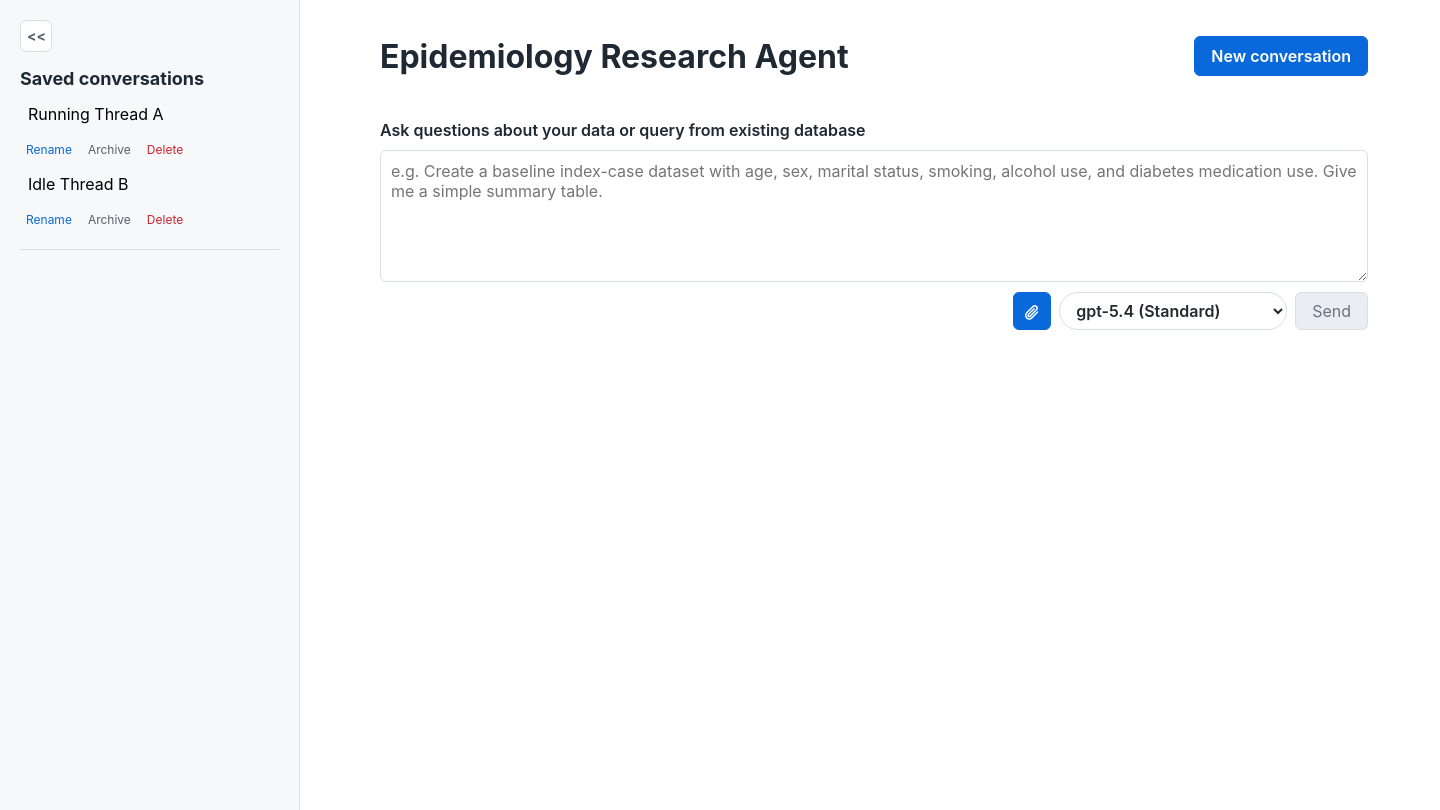
Test: App › ignores a cancellation response after switching conversations
This screenshot has width=1440, height=810.
Click the button "Running Thread A".
click(96, 114)  # box [20,97,172,131]
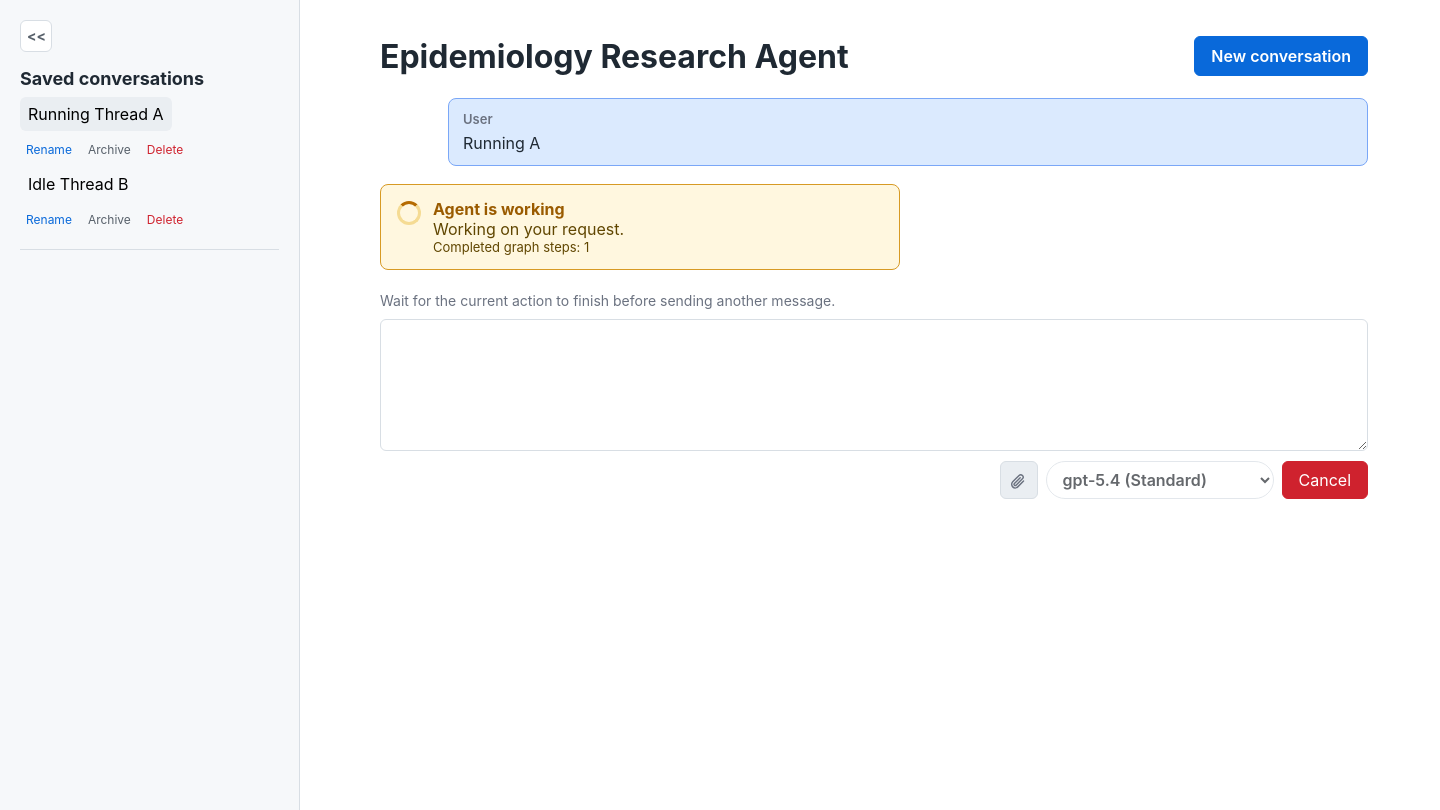
Click the button with aria-label "Cancel run".
click(1325, 480)  # box [1282,461,1368,499]
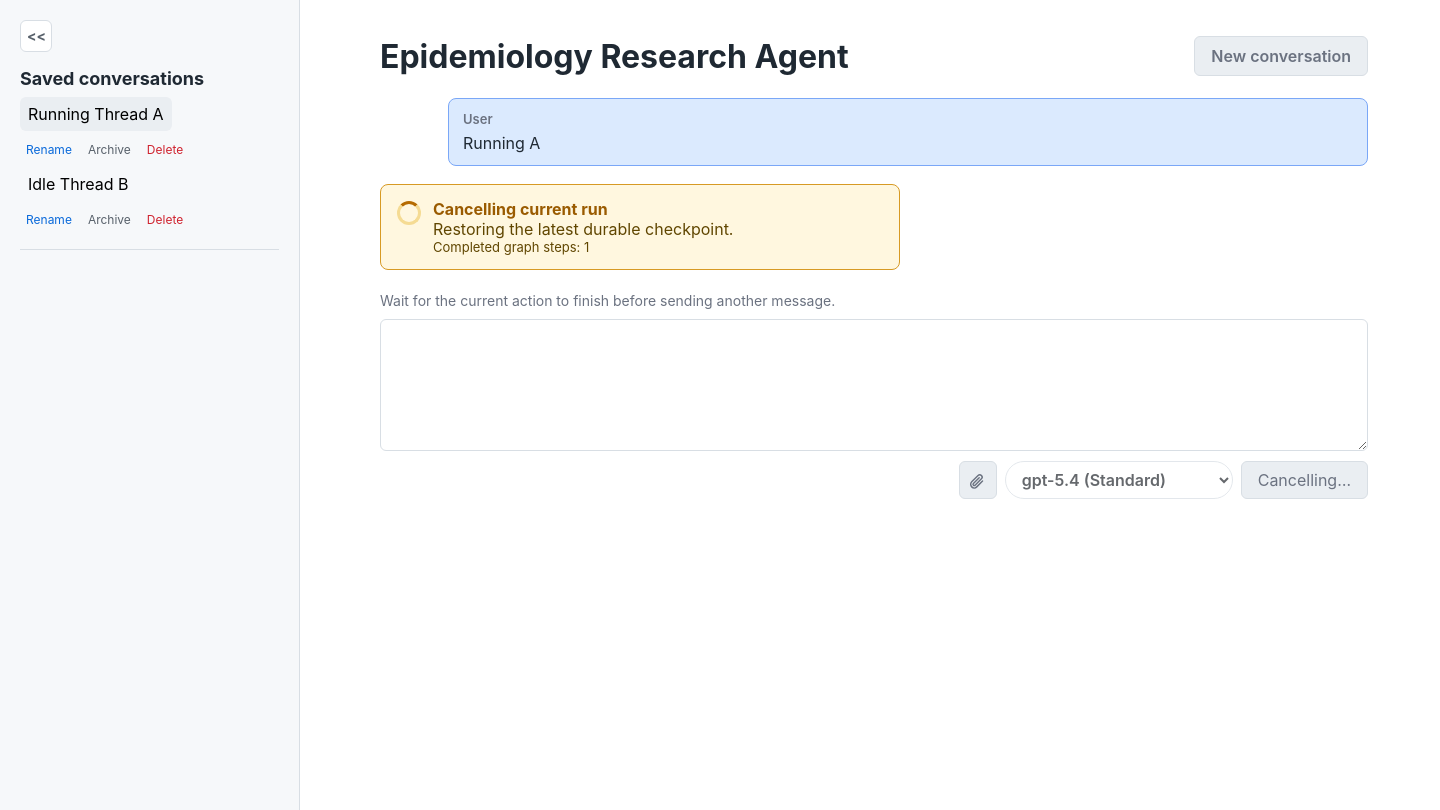
Click the button "Idle Thread B".
click(78, 184)  # box [20,167,137,201]
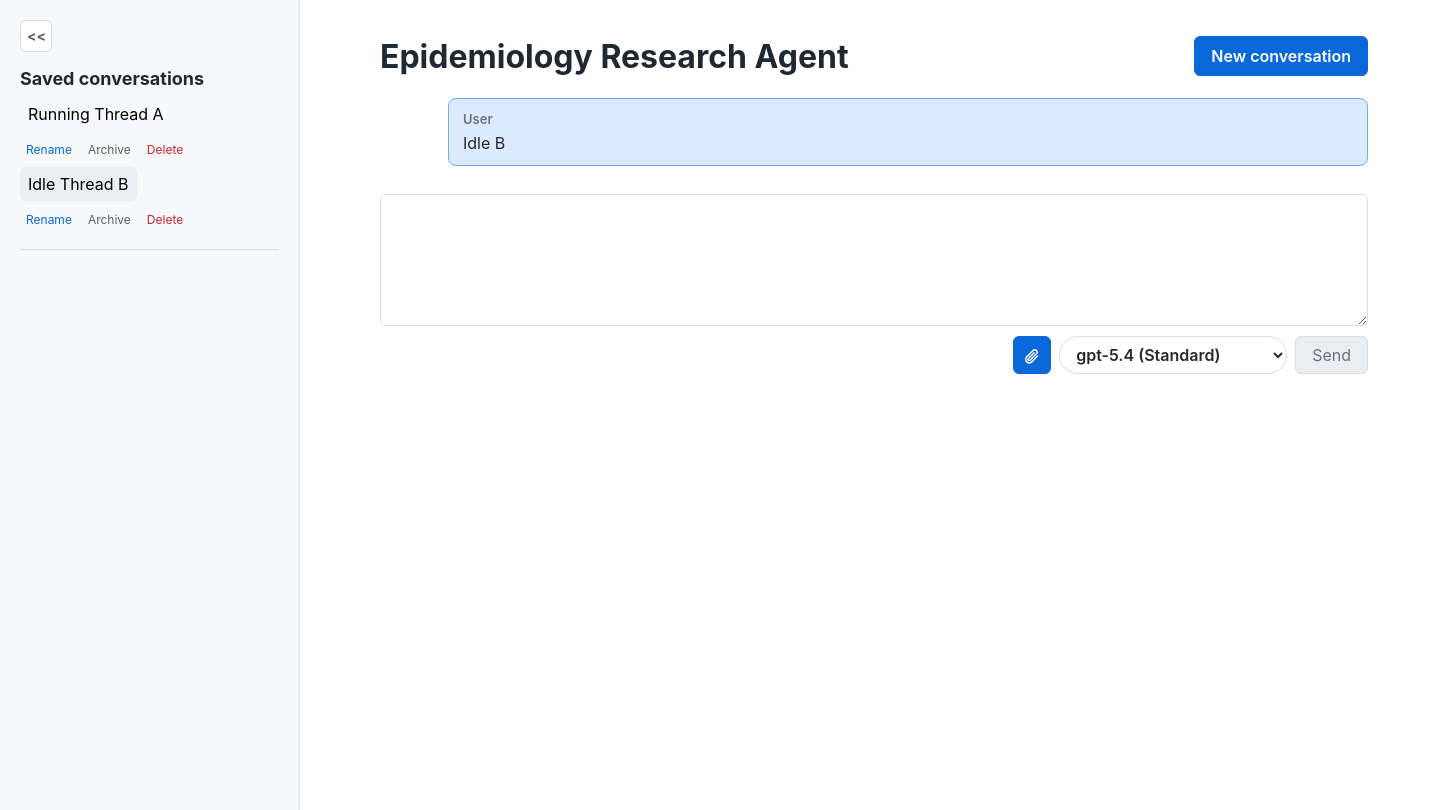
Check: the text "Idle B" is shown, box [463,133,505,153]
